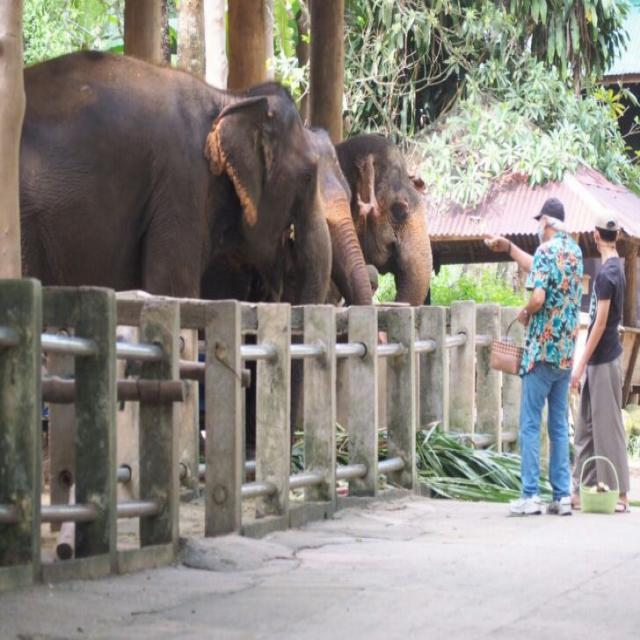Elephant: (19, 24, 321, 324), (304, 130, 454, 309)
